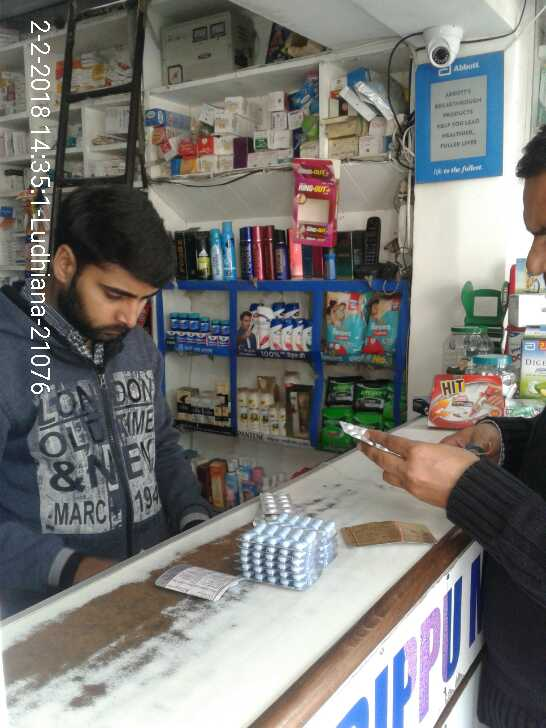vicks: (165, 311, 232, 347)
